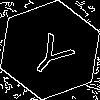Y: (25, 25, 82, 81)
